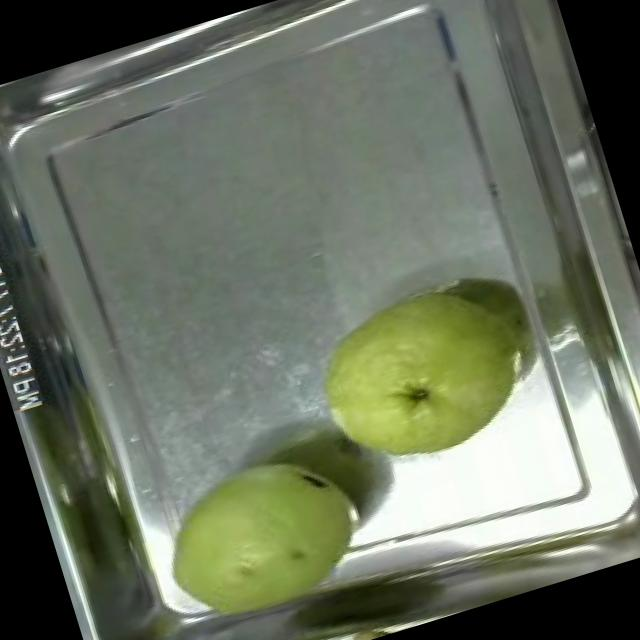Fruit: (290, 260, 548, 491), (140, 426, 392, 640)
